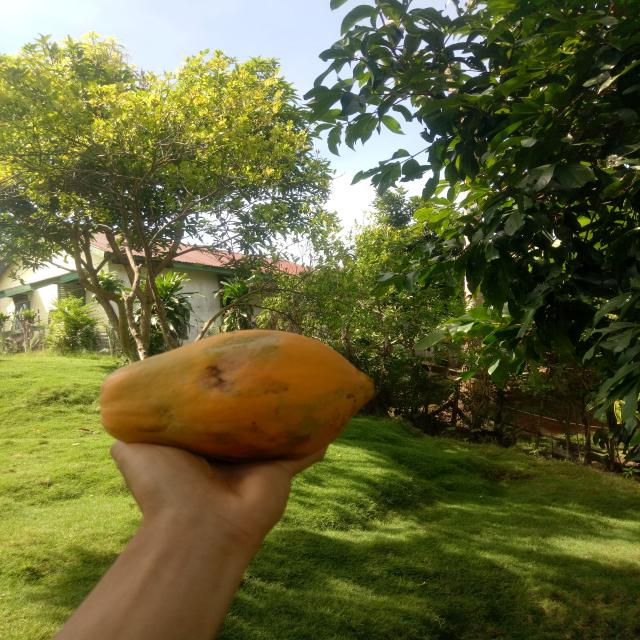Pepaya rippen: (97, 334, 377, 473)
